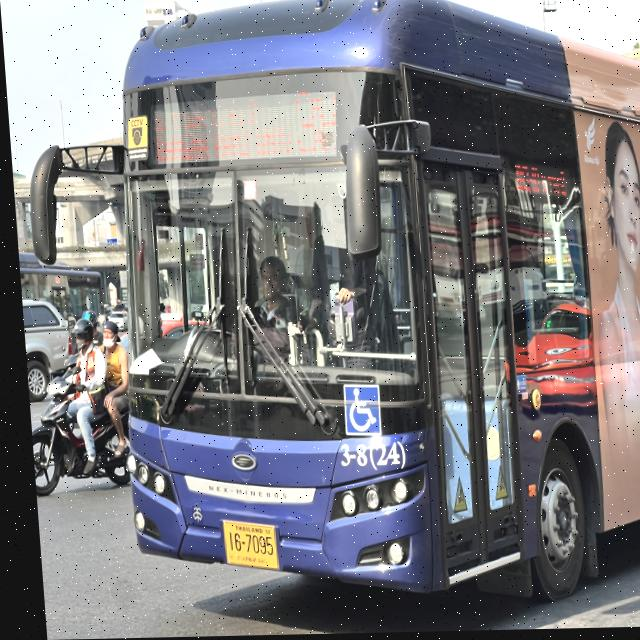Bus-Line-Number: (285, 83, 349, 158)
Destination-Sign-Normal: (145, 89, 286, 174)
TSB-Bus: (86, 0, 640, 612)
